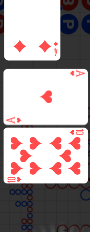10H: (7, 175, 24, 182)
4D: (53, 40, 60, 57)
AH: (6, 115, 24, 124)
